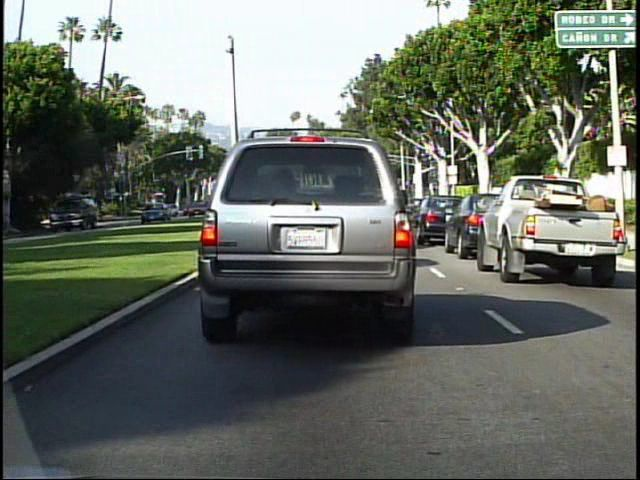person: (79, 205, 92, 227)
